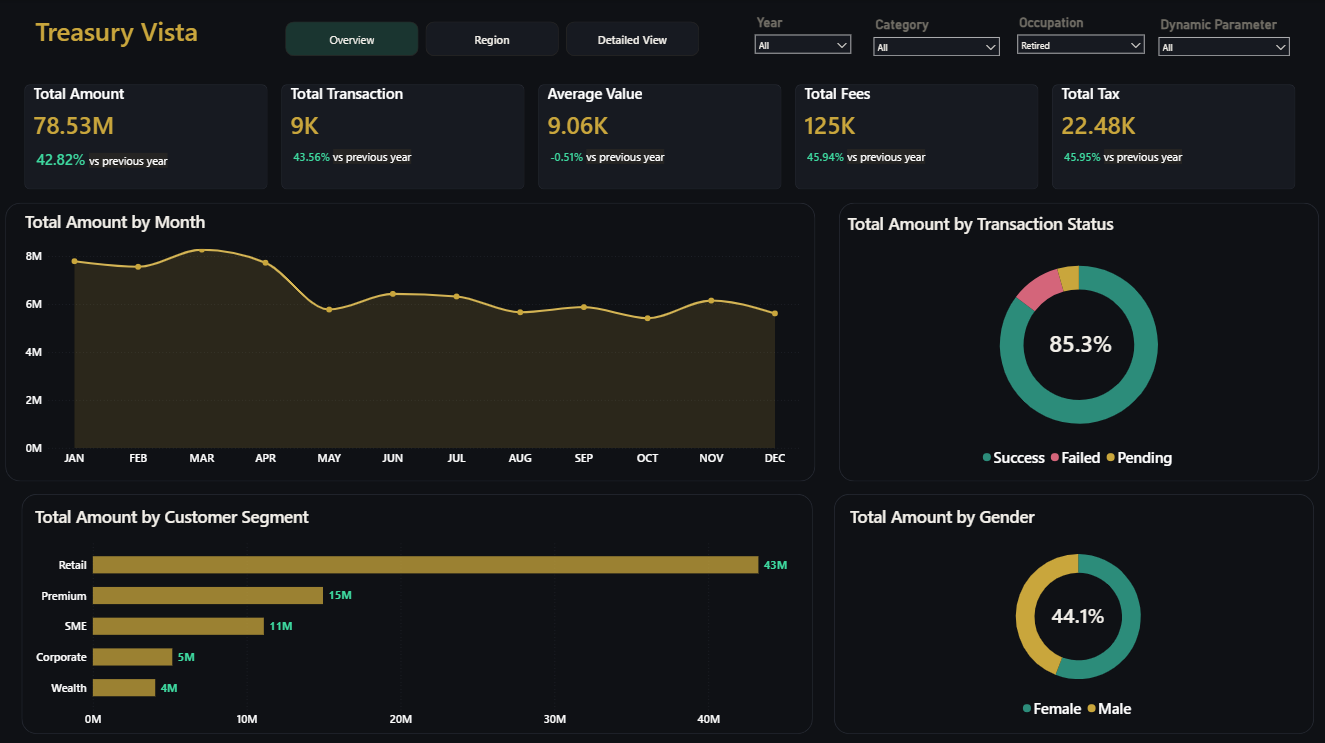

This screenshot's page, from the dashboard's own definition file:
{"tool":"powerbi","page":{"name":"Overview","canvas":[1920,1080],"ordinal":0},"visuals":[{"type":"shape","box":[9,295,1172.7,403.6],"z":0},{"type":"shape","box":[1216.1,295,694.9,403.6],"z":1000},{"type":"cardVisual","fields":{"Data":["_Measures.Total Amount","_Measures.Total Transaction","_Measures.Average Value","_Measures.Total Fees","_Measures.Total Tax"]},"box":[19.9,106.8,1878.4,186.4],"z":2000},{"type":"slicer","title":"Year","fields":{"Values":["Calender Table.Year"]},"box":[1084,18.1,159.3,65.1],"z":3000},{"type":"slicer","title":"Year","fields":{"Values":["customers.occupation"]},"box":[1464,18.1,204.5,65.1],"z":4000},{"type":"slicer","title":"Year","fields":{"Values":["finance_transactions.merchant_category"]},"box":[1255.9,21.7,202.7,65.1],"z":5000},{"type":"slicer","title":"Year","fields":{"Values":[" Dynamic Parameter. Dynamic Parameter"]},"box":[1668.5,21.7,209.9,65.1],"z":6000},{"type":"lineChart","title":"Total Amount by Month","fields":{"Y":["_Measures.Total Amount"],"Category":["Calender Table.Month_Name"]},"box":[32.6,305.8,1132.8,380],"z":7000},{"type":"donutChart","title":"Total Amount by Transaction Status","fields":{"Y":["_Measures.Total Amount"],"Category":["finance_transactions.transaction_status"]},"box":[1223.3,309.5,680.4,376.4],"z":8000},{"type":"cardVisual","fields":{"Data":["_Measures.Success %"]},"box":[1485.7,441.6,161.1,108.6],"z":9000},{"type":"shape","box":[32.6,716.6,1145.5,347.5],"z":10000},{"type":"clusteredBarChart","title":"Total Amount by Customer Segment","fields":{"Y":["_Measures.Total Amount"],"Category":["customers.customer_segment"]},"box":[47.1,732.9,1116.6,331.2],"z":11000},{"type":"shape","box":[1208.9,716.6,694.9,347.5],"z":12000},{"type":"donutChart","title":"Total Amount by Gender","fields":{"Y":["_Measures.Total Amount"],"Category":["customers.gender"]},"box":[1227,732.9,671.4,316.7],"z":13000},{"type":"cardVisual","fields":{"Data":["_Measures.Male %"]},"box":[1471.3,836.1,182.8,108.6],"z":14000},{"type":"pageNavigator","box":[414.4,32.6,600,50],"z":15000},{"type":"textbox","box":[19.9,16.3,300.4,73.6],"z":18000}]}

Visuals, with their boxes in screenshot pixels (x1, y1, x2, y2), scaled from the page's 1920x1080 canvas onto the 1325x743 screenshot:
shape: {"x1": 6, "y1": 203, "x2": 815, "y2": 481}
shape: {"x1": 839, "y1": 203, "x2": 1319, "y2": 481}
cardVisual - _Measures.Total Amount x _Measures.Total Transaction: {"x1": 14, "y1": 73, "x2": 1310, "y2": 202}
"Year" slicer: {"x1": 748, "y1": 12, "x2": 858, "y2": 57}
"Year" slicer: {"x1": 1010, "y1": 12, "x2": 1151, "y2": 57}
"Year" slicer: {"x1": 867, "y1": 15, "x2": 1007, "y2": 60}
"Year" slicer: {"x1": 1151, "y1": 15, "x2": 1296, "y2": 60}
"Total Amount by Month" lineChart: {"x1": 22, "y1": 210, "x2": 804, "y2": 472}
"Total Amount by Transaction Status" donutChart: {"x1": 844, "y1": 213, "x2": 1314, "y2": 472}
cardVisual - _Measures.Success %: {"x1": 1025, "y1": 304, "x2": 1136, "y2": 379}
shape: {"x1": 22, "y1": 493, "x2": 813, "y2": 732}
"Total Amount by Customer Segment" clusteredBarChart: {"x1": 33, "y1": 504, "x2": 803, "y2": 732}
shape: {"x1": 834, "y1": 493, "x2": 1314, "y2": 732}
"Total Amount by Gender" donutChart: {"x1": 847, "y1": 504, "x2": 1310, "y2": 722}
cardVisual - _Measures.Male %: {"x1": 1015, "y1": 575, "x2": 1142, "y2": 650}
pageNavigator: {"x1": 286, "y1": 22, "x2": 700, "y2": 57}
textbox: {"x1": 14, "y1": 11, "x2": 221, "y2": 62}
